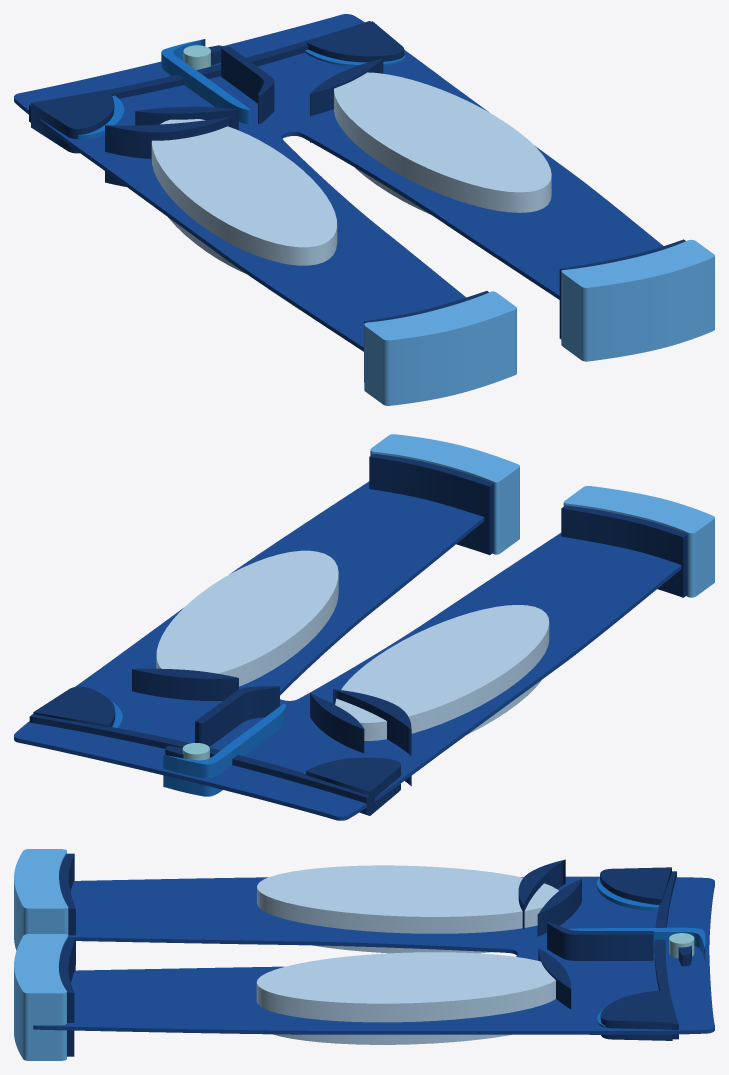
File: emoji_u1f456.glb
3 views of the same model, one above another, from view 1: azimuth 30°, elevation 25°; view 2: azimuth 150°, elevation 25°; view 3: azimuth 270°, elevation 25° (orthographic). The views are drawn at different scales.
Visible parts, largest first — view 1: emoji_u1f456; view 2: emoji_u1f456; view 3: emoji_u1f456.
Boxes of the visible parts, <box> form: emoji_u1f456: <box>14,14,714,405</box>; emoji_u1f456: <box>14,434,714,820</box>; emoji_u1f456: <box>14,849,714,1060</box>.
Bounding box in the file's own units: 0.0177 × 0.0036 × 0.0339.
